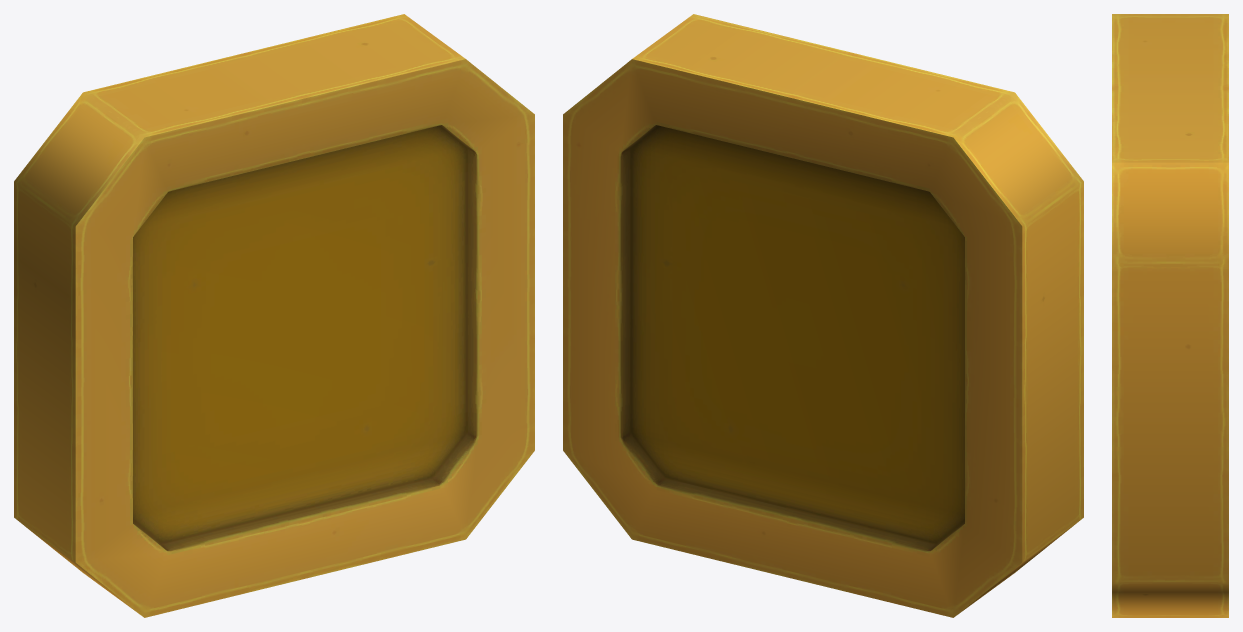
File: SM_Coin_01.glb
3 renders of one model, left to right at view 1: azimuth 30°, elevation 25°; view 2: azimuth 150°, elevation 25°; view 3: azimuth 270°, elevation 25°, orthographic. The views are drawn at different scales.
Parts seen in each view (by area): view 1: SM_Coin_01; view 2: SM_Coin_01; view 3: SM_Coin_01.
Part boxes in pixels (x1,y1,x2,y2): SM_Coin_01: (14, 14, 534, 617); SM_Coin_01: (563, 14, 1083, 617); SM_Coin_01: (1112, 14, 1228, 617).
Size of the model in its own units: 0.3539 by 0.3539 by 0.0822.
1 material, 1 textured.
